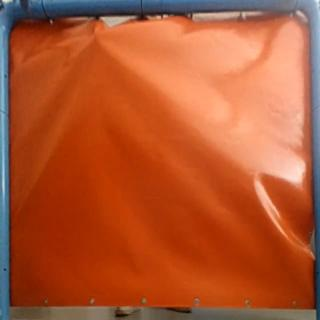Hit-hRxx: (90, 28, 101, 43)
